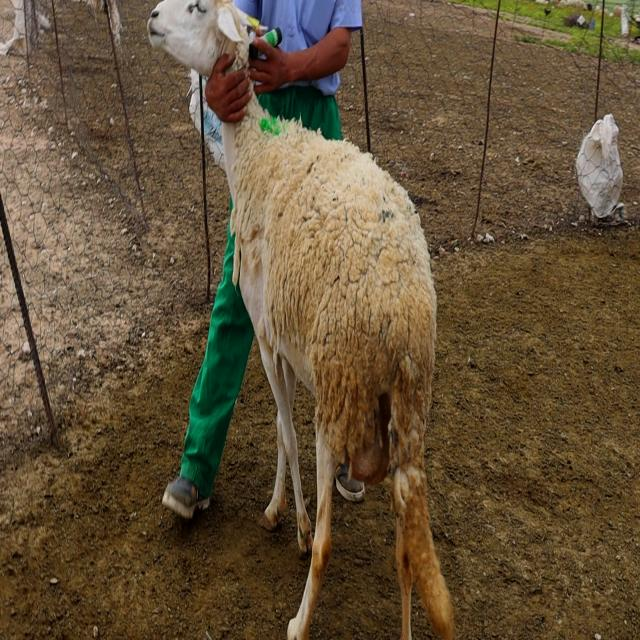Score_2: (147, 0, 453, 639)
